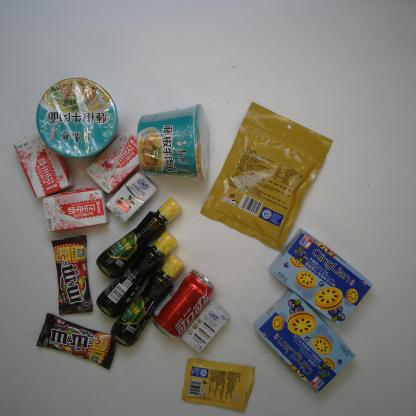Chocolate: (35, 313, 118, 370), (49, 236, 96, 315)
Dessert: (252, 289, 358, 394), (266, 227, 374, 327)
Dried Fruit: (198, 100, 335, 252)
Drink: (150, 268, 216, 340)
Instant Noodles: (34, 77, 118, 158), (136, 102, 211, 184)
Milk: (84, 128, 146, 195), (13, 131, 73, 199), (39, 188, 107, 232), (105, 170, 157, 223), (181, 298, 229, 354)
Seasoner: (95, 197, 184, 279), (96, 230, 180, 316), (110, 256, 185, 345), (181, 357, 257, 413)
